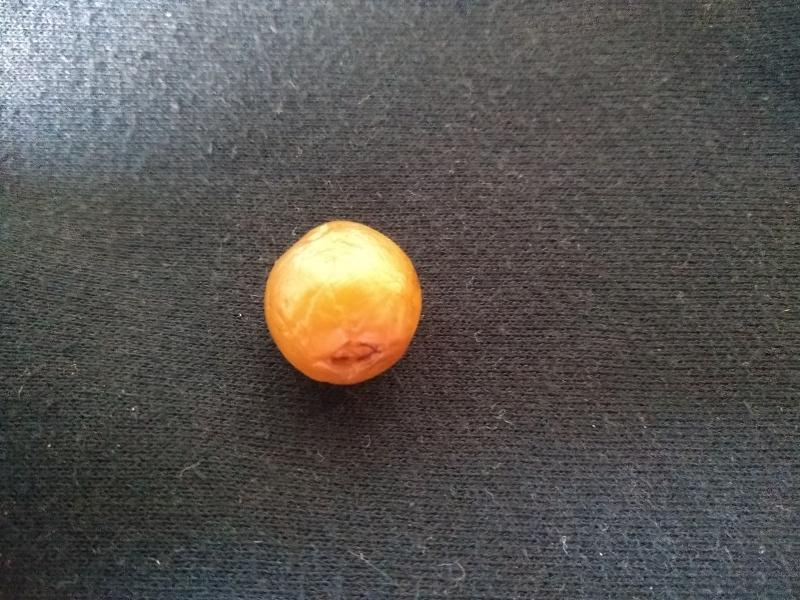Grape Rotten: (263, 218, 425, 390)
